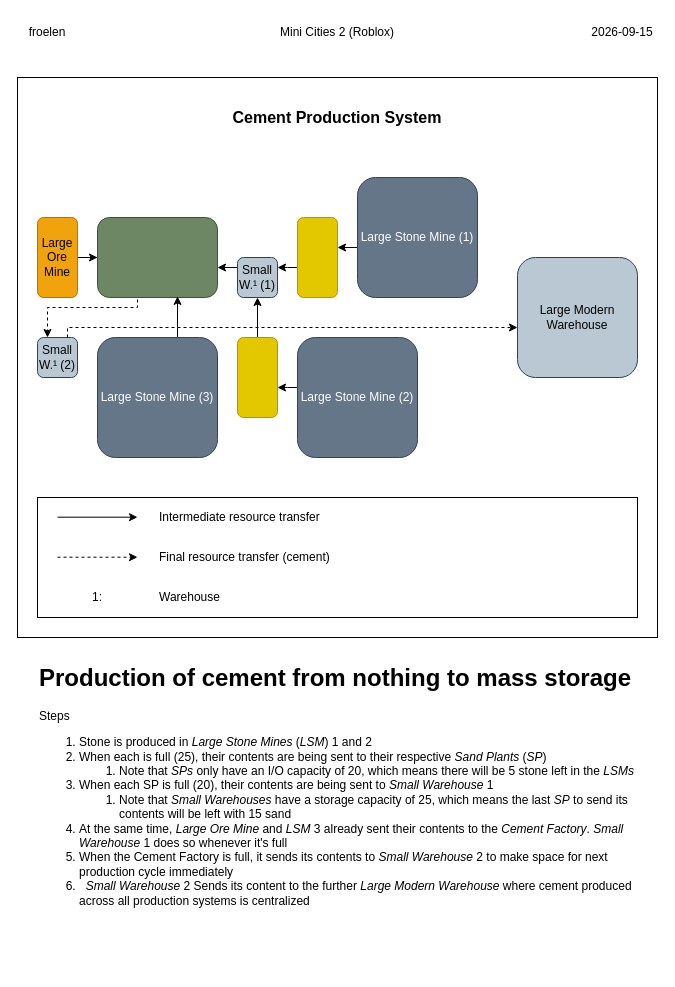
Some shapes in this 675 by 987 pixel diagram are drawn without their labels. The shapes that lost their labels are listed below. From the top down, each one's box as (x1, y1, x2, y2) in pixels, then its label:
(96, 216, 218, 298): Cement Factory
(296, 216, 338, 298): Sand Plant (1)
(236, 336, 278, 418): Sand Plant (2)
